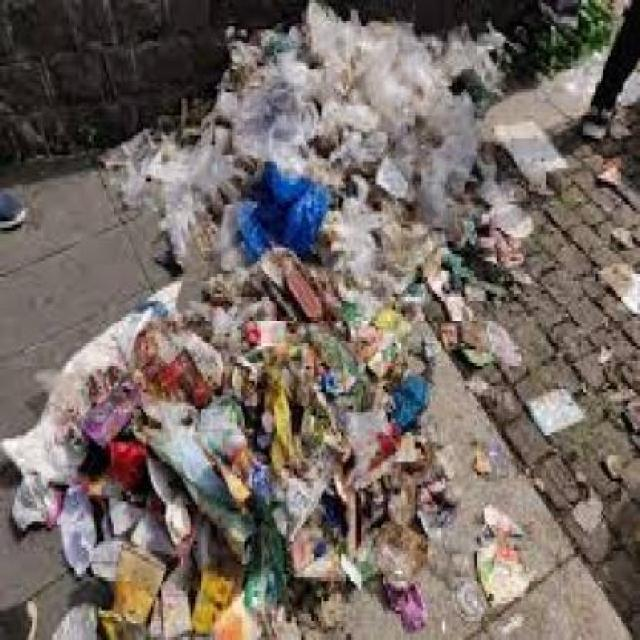garbage: (6, 271, 638, 637), (94, 3, 638, 260)
